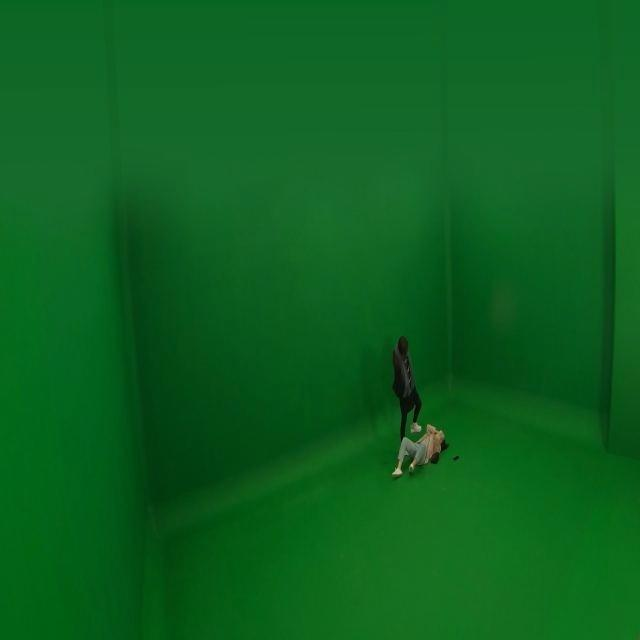fight: (395, 334, 443, 477)
